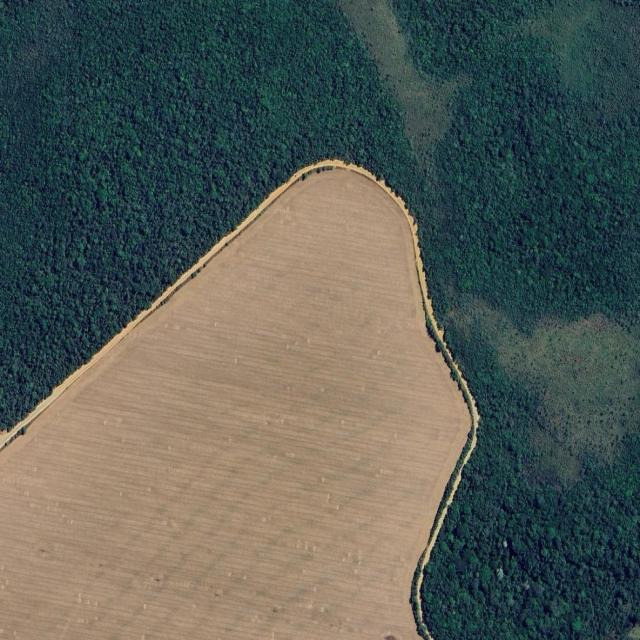noVegetation: (0, 170, 470, 638)
vegetation: (0, 2, 640, 638)
